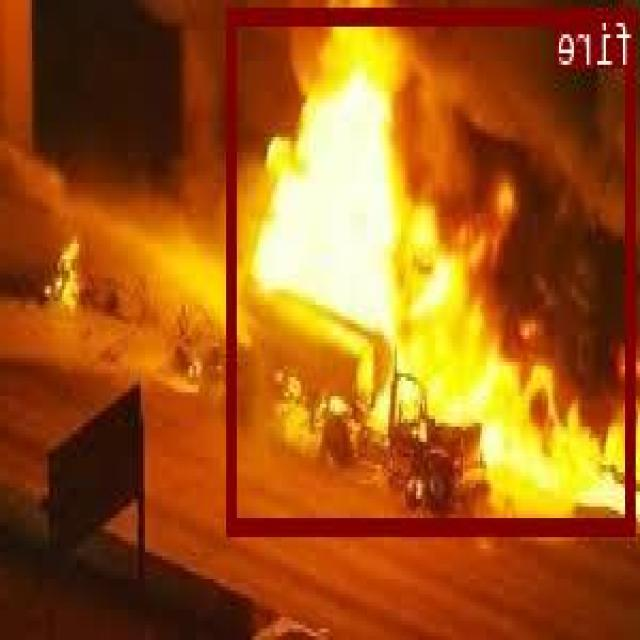fire: (230, 8, 637, 532)
